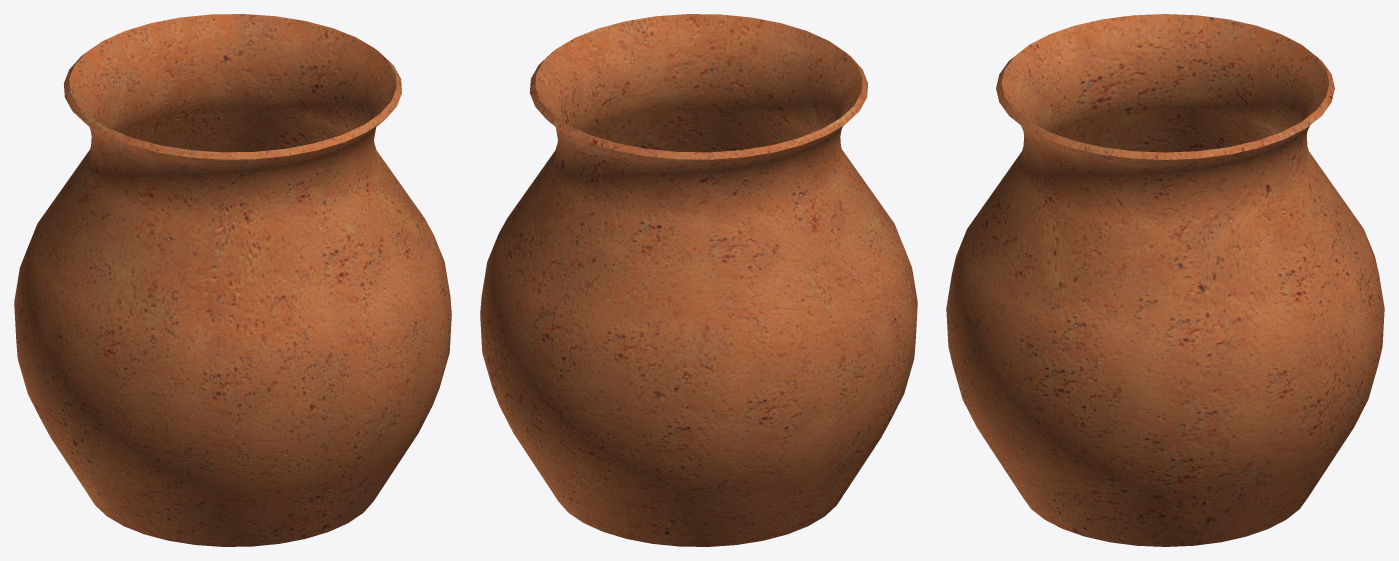
The model's file is Pot.fbx.
3 views of the same model, side by side, from view 1: azimuth 30°, elevation 25°; view 2: azimuth 150°, elevation 25°; view 3: azimuth 270°, elevation 25° (orthographic).
Parts seen in each view (by area): view 1: Circle; view 2: Circle; view 3: Circle.
Part boxes in pixels (left/top/right/bottom): Circle: left=14, top=14, right=451, bottom=546; Circle: left=480, top=14, right=917, bottom=546; Circle: left=946, top=14, right=1384, bottom=546.
Size of the model in its own units: 77.79 by 78.77 by 77.79.
